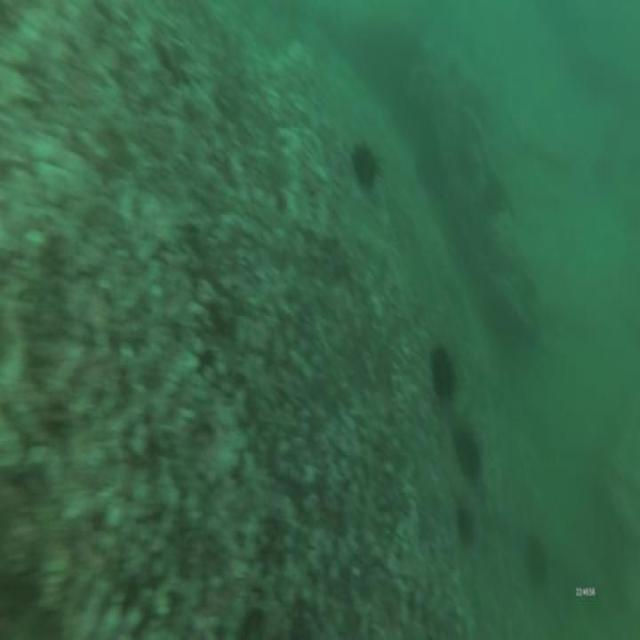echinus: (348, 131, 382, 198), (454, 419, 484, 485), (429, 340, 457, 404), (452, 499, 478, 553), (524, 530, 548, 586)
